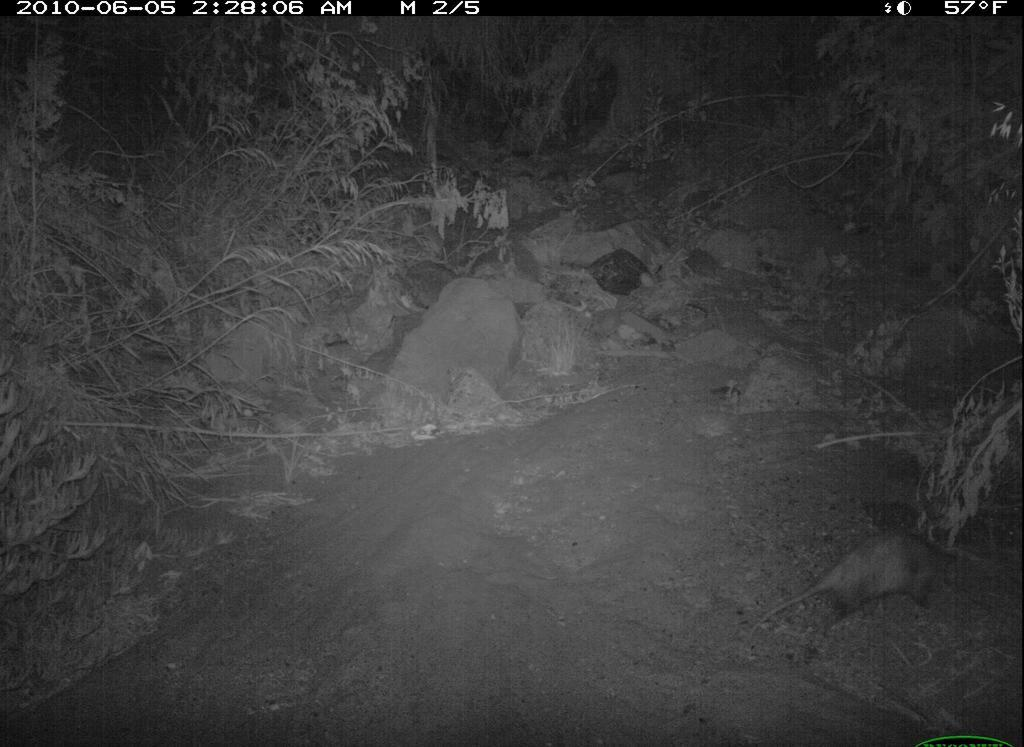opossum: (749, 528, 957, 655)
